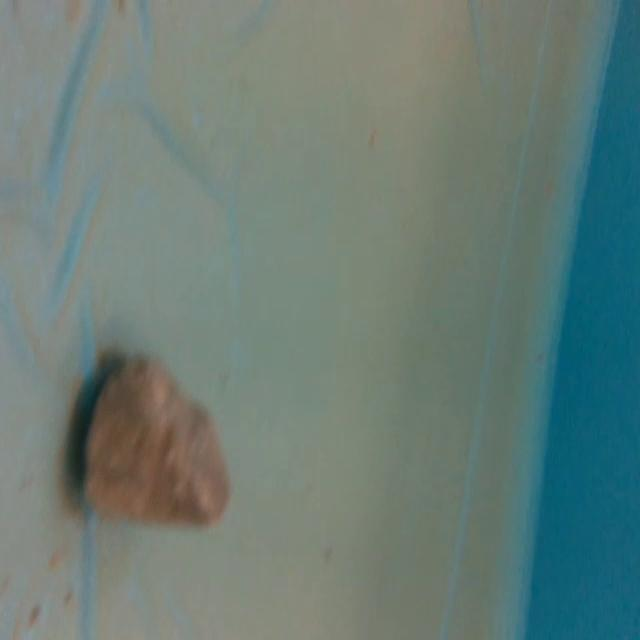rock: (72, 354, 243, 532)
